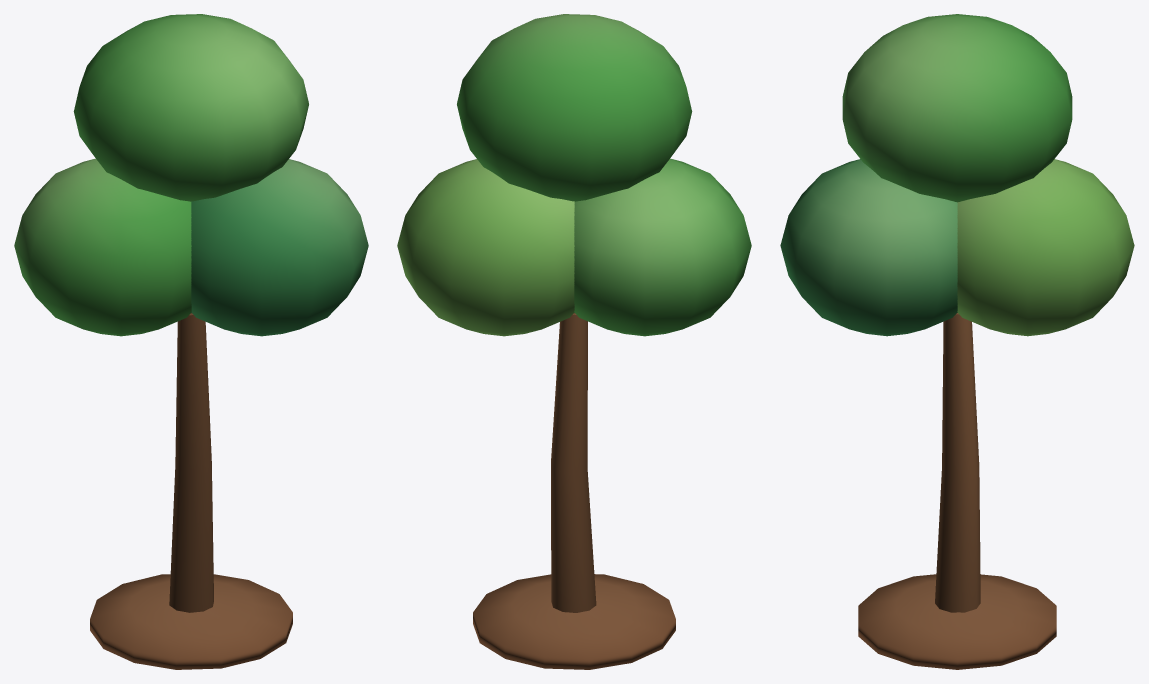
Rendered from storybook-plant-mango.glb.
3 renders of one model, left to right at view 1: azimuth 30°, elevation 25°; view 2: azimuth 150°, elevation 25°; view 3: azimuth 270°, elevation 25°, orthographic.
Visible parts, largest first — view 1: storybook-plant-mango; view 2: storybook-plant-mango; view 3: storybook-plant-mango.
Part boxes in pixels (box(x1,y1,x2,y2)): storybook-plant-mango: box(14, 14, 368, 669); storybook-plant-mango: box(397, 14, 751, 669); storybook-plant-mango: box(780, 14, 1134, 669).
Bounding box in the file's own units: 1.57 × 3.16 × 1.66.
